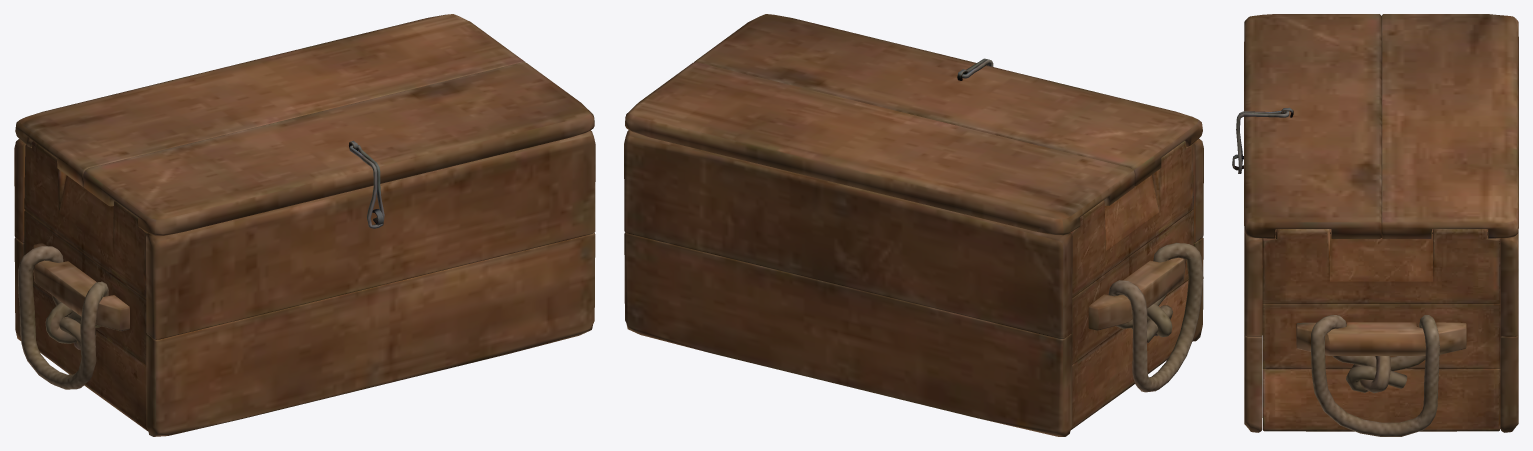
File: crate.glb
3 renders of one model, left to right at view 1: azimuth 30°, elevation 25°; view 2: azimuth 150°, elevation 25°; view 3: azimuth 270°, elevation 25°, orthographic. The views are drawn at different scales.
Parts seen in each view (by area): view 1: wooden_crate_01_lid; view 2: wooden_crate_01_lid; view 3: wooden_crate_01_lid.
Part boxes in pixels (x1,y1,x2,y2): wooden_crate_01_lid: [14, 14, 595, 436]; wooden_crate_01_lid: [624, 14, 1203, 436]; wooden_crate_01_lid: [1232, 14, 1518, 436].
Bounding box in the file's own units: 0.8253 × 0.3495 × 0.4084.
Materials: 1 (1 with a texture image).
